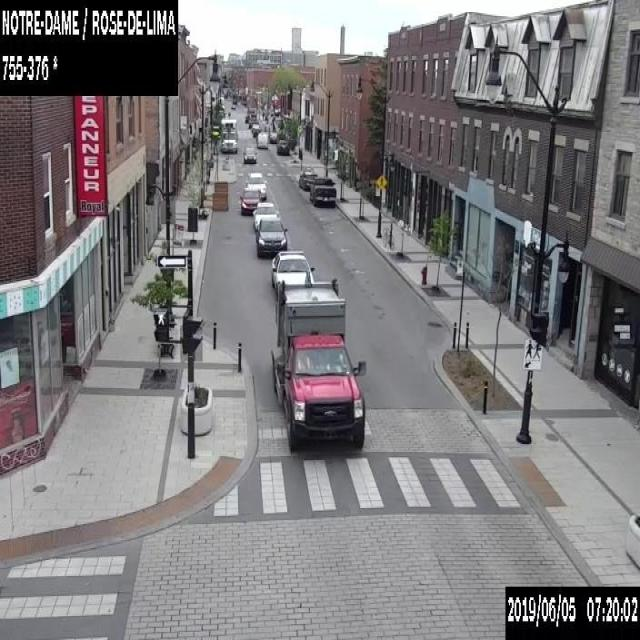vehicle: (270, 278, 365, 451), (270, 250, 313, 290), (255, 216, 286, 257), (308, 176, 336, 207), (252, 201, 278, 233), (244, 171, 267, 200), (220, 118, 237, 152), (239, 186, 261, 212), (298, 170, 317, 190), (243, 146, 256, 163), (244, 105, 256, 123), (276, 139, 290, 154), (256, 132, 267, 148), (248, 113, 258, 128), (251, 123, 261, 132), (268, 132, 276, 142)
